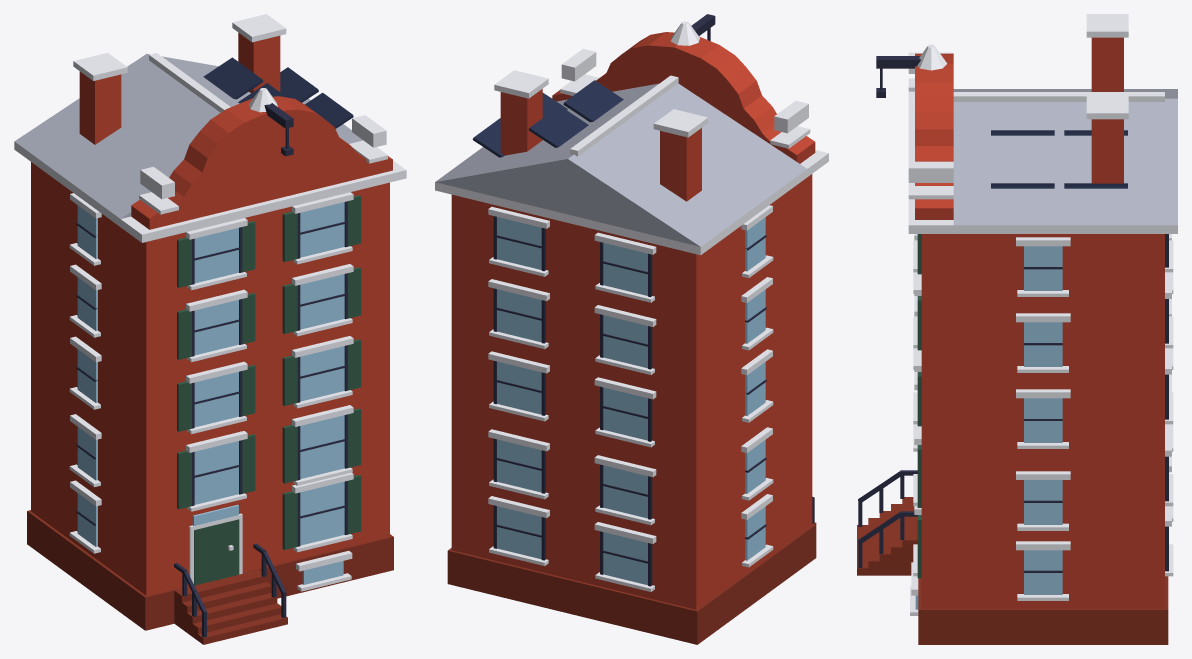
File: house-1x1-5f-dutch-a-solar.glb
The picture shows the model from 3 angles, left to right: view 1: azimuth 30°, elevation 25°; view 2: azimuth 150°, elevation 25°; view 3: azimuth 270°, elevation 25°; orthographic projection. The views are drawn at different scales.
Visible parts, largest first — view 1: house-1x1-5f-dutch-a-solar; view 2: house-1x1-5f-dutch-a-solar; view 3: house-1x1-5f-dutch-a-solar.
Boxes of the visible parts, box(x1,y1,x2,y2) form: house-1x1-5f-dutch-a-solar: box(14, 14, 406, 644); house-1x1-5f-dutch-a-solar: box(435, 14, 828, 644); house-1x1-5f-dutch-a-solar: box(857, 14, 1177, 644).
Bounding box in the file's own units: 1 × 1.83 × 0.995.
1 material, 1 textured.
